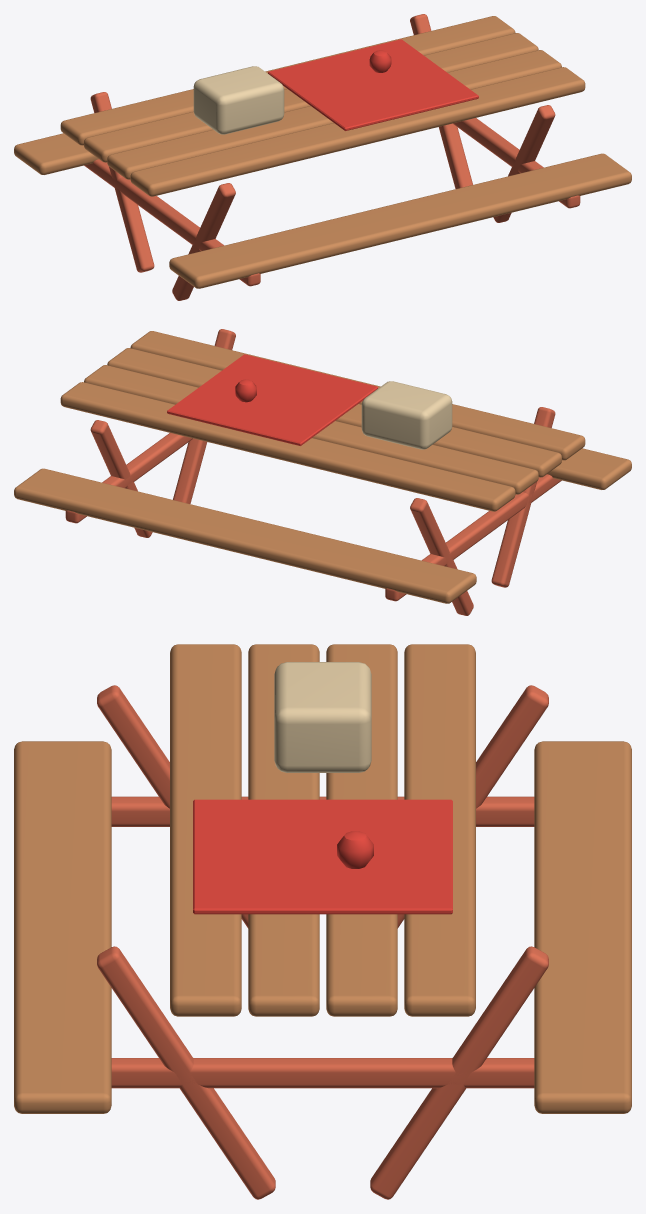
Rendered from picnic_table.glb.
The picture shows the model from 3 angles, top to bottom: view 1: azimuth 30°, elevation 25°; view 2: azimuth 150°, elevation 25°; view 3: azimuth 270°, elevation 25°; orthographic projection. The views are drawn at different scales.
Visible parts, largest first — view 1: picnic_table; view 2: picnic_table; view 3: picnic_table.
Part boxes in pixels (bbox=[...]): picnic_table: bbox=[14, 14, 631, 300]; picnic_table: bbox=[14, 329, 631, 615]; picnic_table: bbox=[14, 644, 631, 1199].
Bounding box in the file's own units: 2.6 × 1.06 × 1.9.
Materials: 1 (1 with a texture image).
